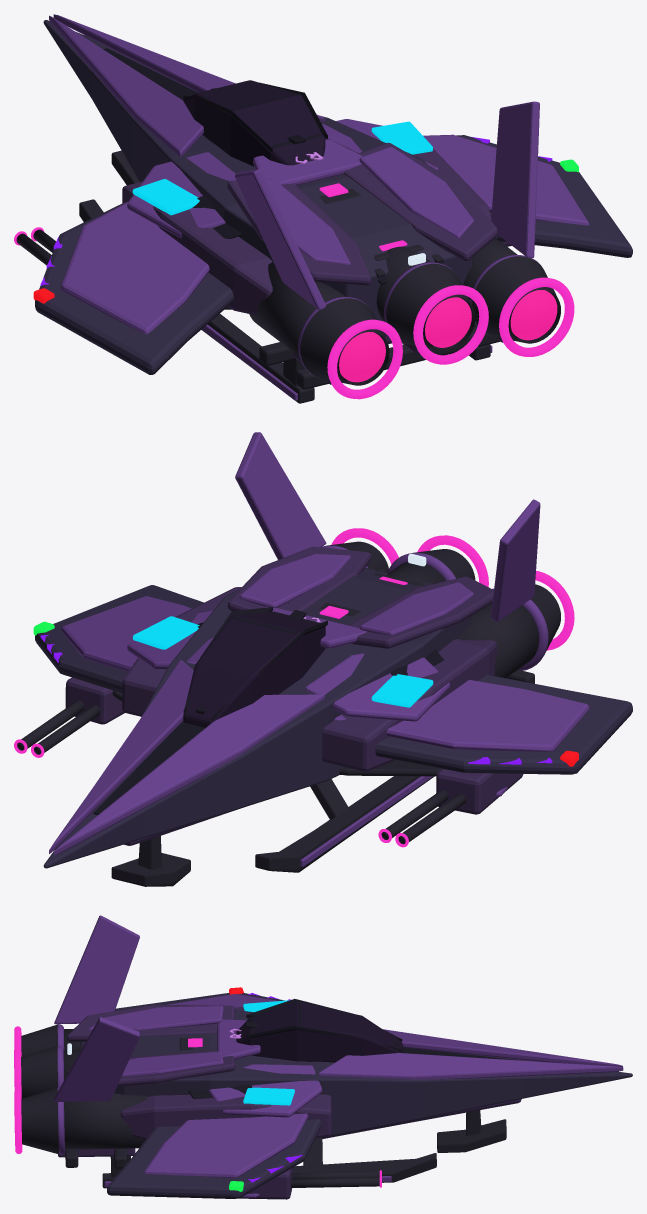
File: raider2.glb
3 views of the same model, one above another, from view 1: azimuth 30°, elevation 25°; view 2: azimuth 150°, elevation 25°; view 3: azimuth 270°, elevation 25° (orthographic). The views are drawn at different scales.
Visible parts, largest first — view 1: Static_Raider2VioletArmor, Static_Raider2Hull, Static_EngineIron, Static_Raider2DarkArmor, Canopy, Static_SystemsGlow, Static_Raider2Recess, AfterburnerL, AfterburnerR, AfterburnerC, ThrusterR, ThrusterC (+2 smaller); view 2: Static_Raider2VioletArmor, Static_Raider2Hull, Static_EngineIron, Static_Raider2DarkArmor, Canopy, Static_Raider2Recess, Static_SystemsGlow, AfterburnerL, AfterburnerC, Static_AfterburnerGlow, AfterburnerR; view 3: Static_Raider2VioletArmor, Static_Raider2Hull, Static_EngineIron, Static_Raider2DarkArmor, Canopy, Static_Raider2Recess, Static_SystemsGlow, AfterburnerR.
Boxes of the visible parts, x1=… form: Static_Raider2VioletArmor: x1=49, y1=14, x2=589, y2=400; Static_Raider2Hull: x1=35, y1=20, x2=632, y2=374; Static_EngineIron: x1=16, y1=150, x2=560, y2=403; Static_Raider2DarkArmor: x1=122, y1=142, x2=511, y2=384; Canopy: x1=183, y1=80, x2=325, y2=166; Static_SystemsGlow: x1=132, y1=121, x2=432, y2=215; Static_Raider2Recess: x1=103, y1=48, x2=386, y2=284; AfterburnerL: x1=327, y1=319, x2=402, y2=399; AfterburnerR: x1=499, y1=277, x2=574, y2=356; AfterburnerC: x1=413, y1=285, x2=488, y2=364; ThrusterR: x1=510, y1=290, x2=557, y2=340; ThrusterC: x1=425, y1=297, x2=471, y2=347; Static_Raider2VioletArmor: x1=49, y1=432, x2=589, y2=866; Static_Raider2Hull: x1=35, y1=567, x2=632, y2=868; Static_EngineIron: x1=17, y1=541, x2=560, y2=886; Static_Raider2DarkArmor: x1=65, y1=546, x2=523, y2=845; Canopy: x1=183, y1=612, x2=325, y2=727; Static_Raider2Recess: x1=93, y1=602, x2=443, y2=814; Static_SystemsGlow: x1=132, y1=616, x2=433, y2=707; AfterburnerL: x1=535, y1=570, x2=574, y2=650; AfterburnerC: x1=417, y1=535, x2=488, y2=586; Static_AfterburnerGlow: x1=14, y1=576, x2=408, y2=847; AfterburnerR: x1=331, y1=528, x2=398, y2=564; Static_Raider2VioletArmor: x1=54, y1=915, x2=623, y2=1197; Static_Raider2Hull: x1=80, y1=993, x2=632, y2=1198; Static_EngineIron: x1=21, y1=1024, x2=506, y2=1188; Static_Raider2DarkArmor: x1=58, y1=1004, x2=521, y2=1199; Canopy: x1=236, y1=1001, x2=402, y2=1062; Static_Raider2Recess: x1=188, y1=998, x2=521, y2=1099; Static_SystemsGlow: x1=243, y1=1000, x2=294, y2=1105; AfterburnerR: x1=14, y1=1089, x2=22, y2=1153.
Bounding box in the file's own units: 7.07 × 3.08 × 9.25.
